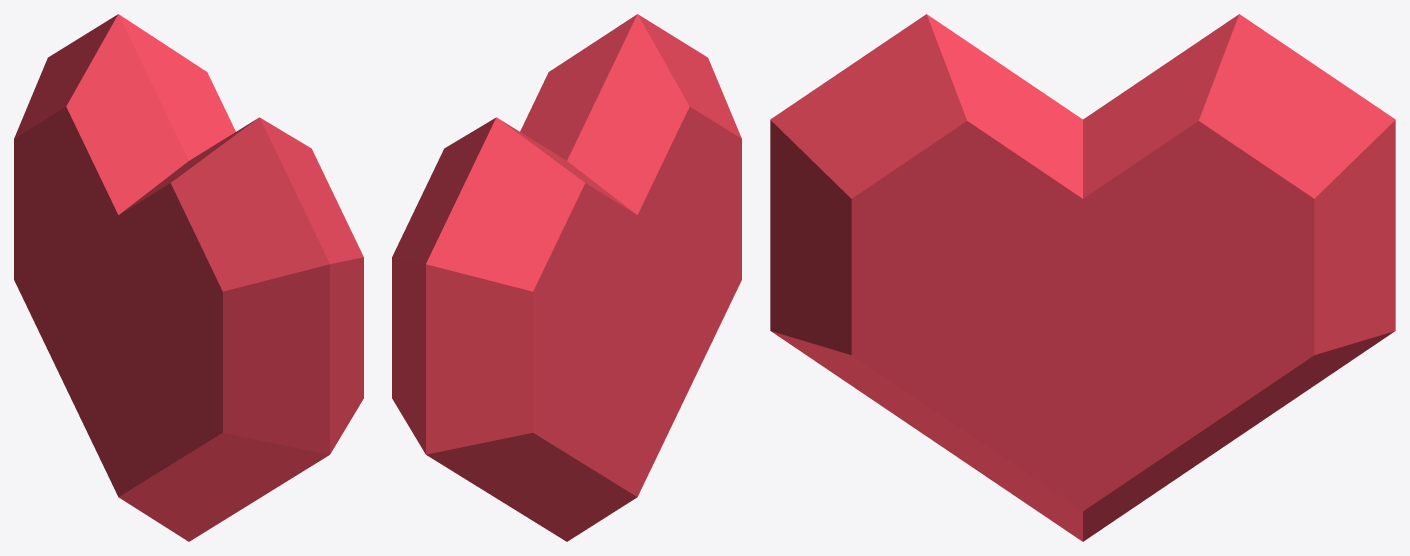
The model's file is heart.fbx.
3 renders of one model, left to right at view 1: azimuth 30°, elevation 25°; view 2: azimuth 150°, elevation 25°; view 3: azimuth 270°, elevation 25°, orthographic. The views are drawn at different scales.
Visible parts, largest first — view 1: coin; view 2: coin; view 3: coin.
Boxes of the visible parts, bbox=[...] form: coin: bbox=[14, 14, 363, 541]; coin: bbox=[392, 14, 741, 541]; coin: bbox=[770, 14, 1395, 541].
Bounding box in the file's own units: 1.19 × 3.84 × 4.12.
